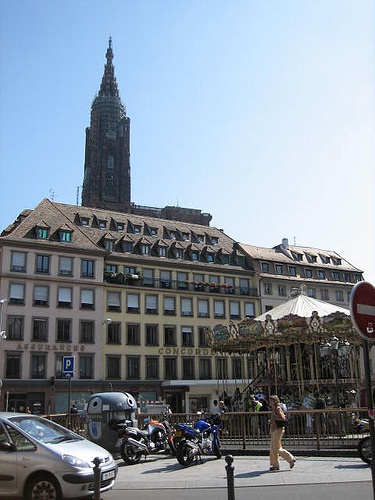non-vehicle: (115, 407, 172, 465), (169, 405, 221, 467), (354, 417, 373, 465)
